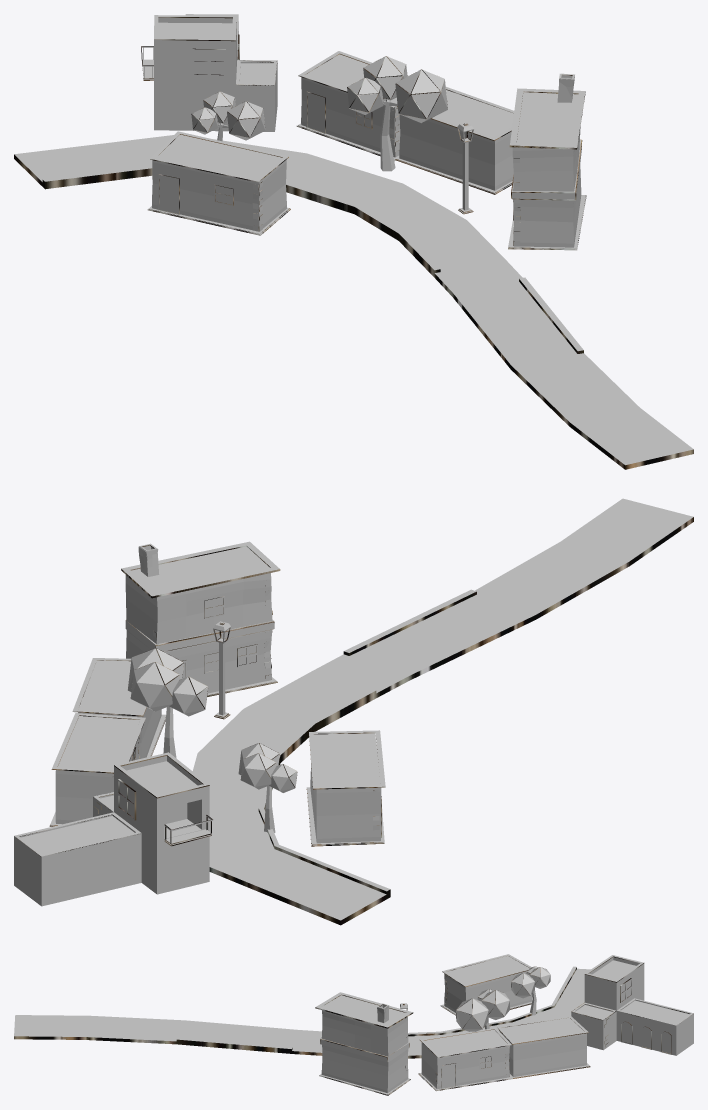
The model's file is Village.fbx.
3 renders of one model, top to bottom at view 1: azimuth 30°, elevation 25°; view 2: azimuth 150°, elevation 25°; view 3: azimuth 270°, elevation 25°, orthographic. The views are drawn at different scales.
Parts seen in each view (by area): view 1: Roads.001, Cube.028, T-house_balcony.001, Cube.026, Cube.025, Cube.022, Tree1.001, Tree1.002, Pillar.001; view 2: Roads.001, T-house_balcony.001, Cube.028, Cube.026, Cube.022, Tree1.001, Cube.025, Tree1.002, Pillar.001; view 3: Roads.001, Cube.028, T-house_balcony.001, Cube.025, Cube.022, Cube.026, Tree1.001, Tree1.002.
Boxes of the visible parts, x1,y1,x2,y2 form: Roads.001: (14,135,693,469); Cube.028: (508,73,586,250); T-house_balcony.001: (141,14,277,131); Cube.026: (147,131,290,235); Cube.025: (395,87,514,194); Cube.022: (296,51,408,161); Tree1.001: (347,56,447,171); Tree1.002: (191,91,265,141); Pillar.001: (457,122,473,214); Roads.001: (192,498,693,925); T-house_balcony.001: (14,752,213,906); Cube.028: (121,541,280,696); Cube.026: (306,730,385,846); Cube.022: (49,713,145,826); Tree1.001: (128,648,208,758); Cube.025: (72,658,165,758); Tree1.002: (238,743,297,832); Pillar.001: (213,621,230,719); Roads.001: (14,966,590,1058); Cube.028: (315,992,413,1095); T-house_balcony.001: (571,955,693,1055); Cube.025: (418,1027,513,1091); Cube.022: (497,1016,590,1078); Cube.026: (440,954,532,1015); Tree1.001: (456,989,509,1031); Tree1.002: (511,966,550,1015).
Size of the model in its own units: 8045 by 2502 by 18449.
